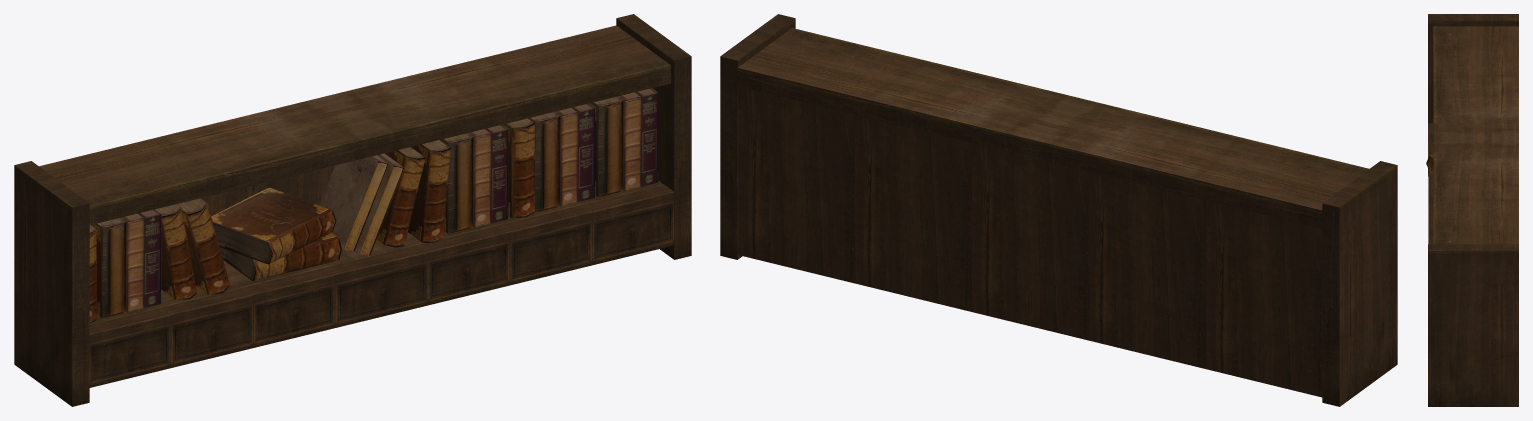
File: LowBookDesk.fbx
3 views of the same model, side by side, from view 1: azimuth 30°, elevation 25°; view 2: azimuth 150°, elevation 25°; view 3: azimuth 270°, elevation 25° (orthographic). The views are drawn at different scales.
Visible parts, largest first — view 1: LV_Compagna_Object_BookShelf02_SM_NWCTCY; view 2: LV_Compagna_Object_BookShelf02_SM_NWCTCY; view 3: LV_Compagna_Object_BookShelf02_SM_NWCTCY.
Boxes of the visible parts, x1,y1,x2,y2 form: LV_Compagna_Object_BookShelf02_SM_NWCTCY: (14, 14, 691, 406); LV_Compagna_Object_BookShelf02_SM_NWCTCY: (720, 14, 1397, 406); LV_Compagna_Object_BookShelf02_SM_NWCTCY: (1426, 14, 1518, 406).
Size of the model in its own units: 0.9602 by 0.2952 by 0.1588.
Materials: 1 (1 with a texture image).
